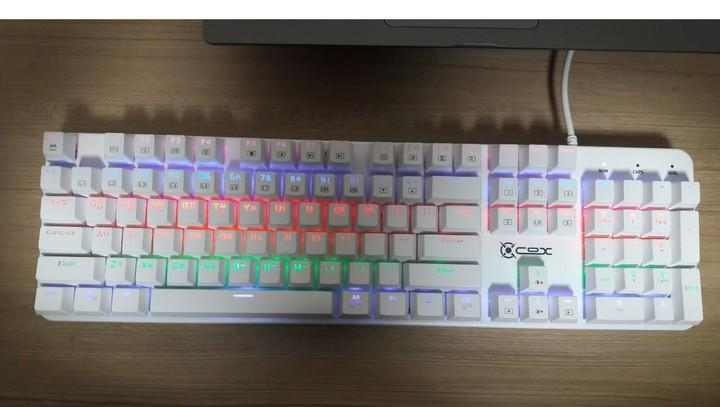keyboard: (34, 131, 704, 331)
